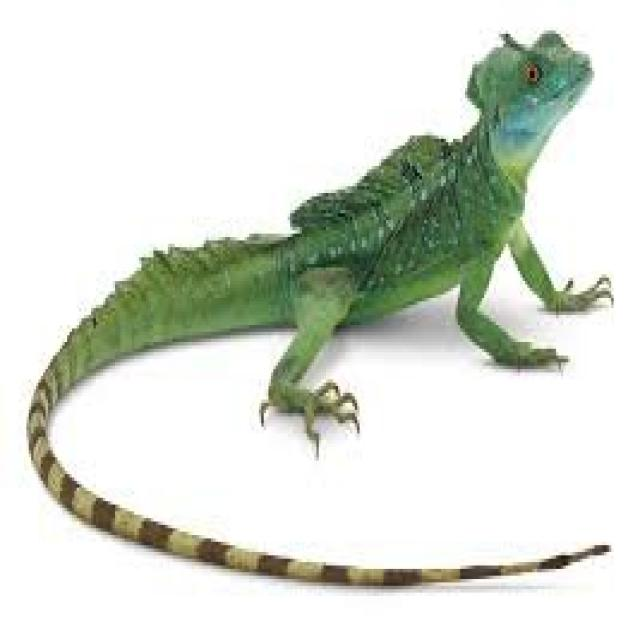Lizard: (22, 24, 617, 594)
